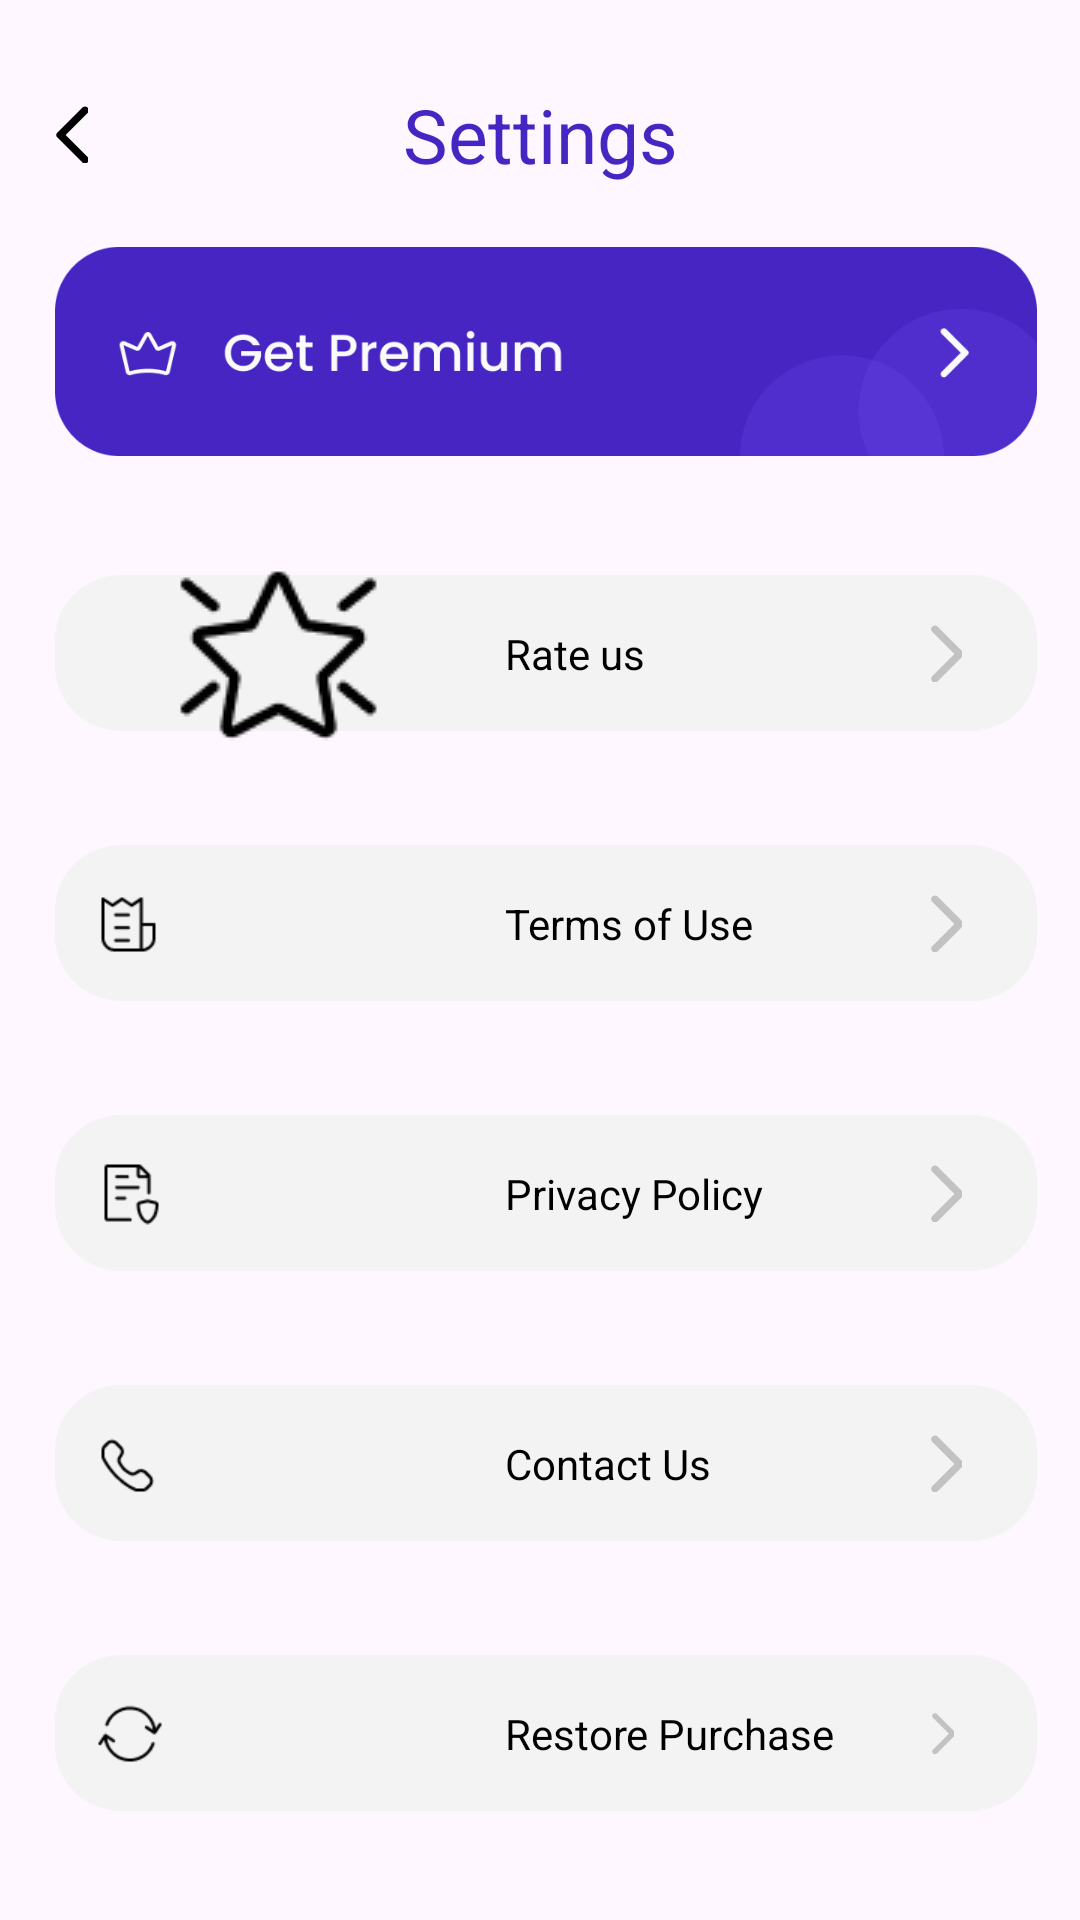

Named icons in this screenshot (1080 × 1920) and their bounding boxes, (x1, y1, x2, y2):
back: (56, 106, 88, 163)
